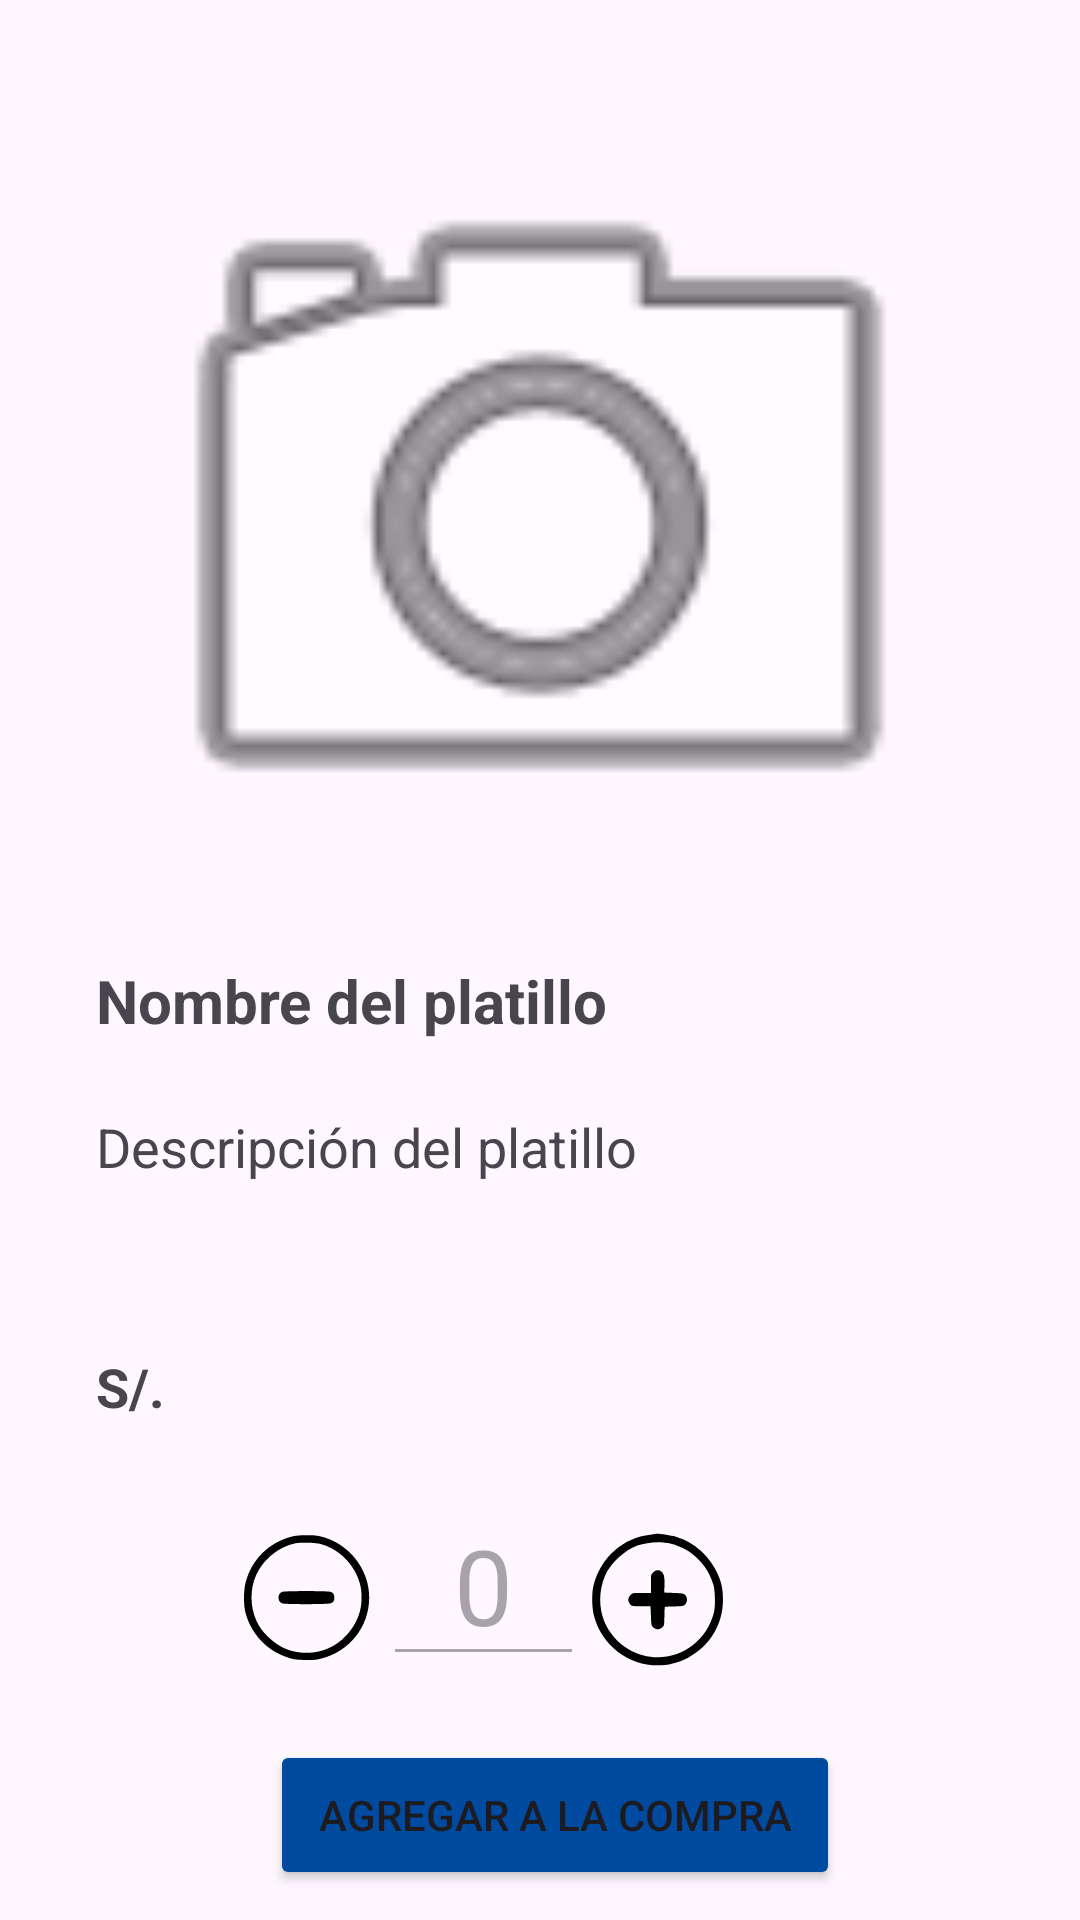

Where to tap for icons on this 1080w x 1920h app screen, as point (x, y):
mas: point (657, 1599)
menos: point (307, 1597)
